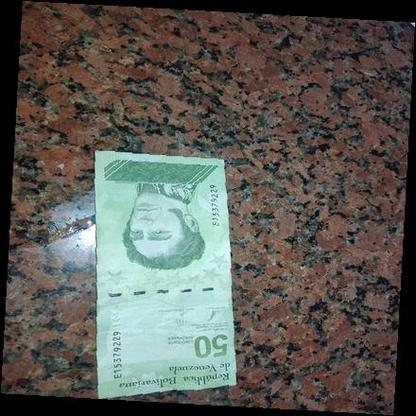fifty-front-vef: (96, 150, 236, 400)
